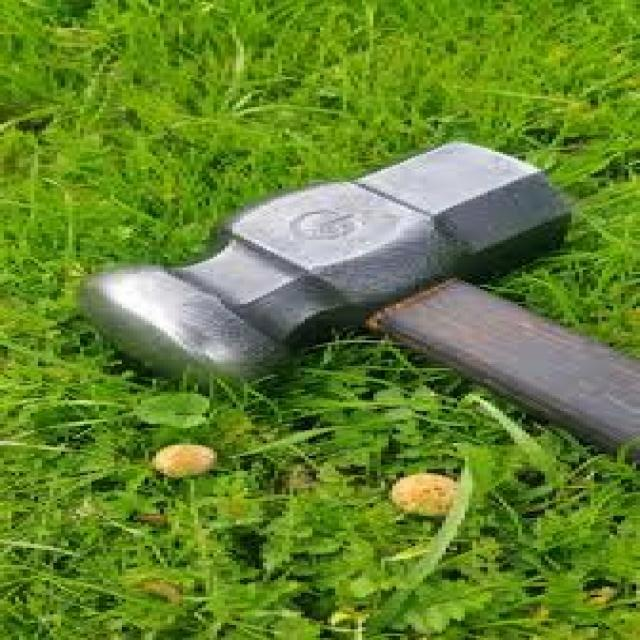hammer: (57, 134, 640, 480)
